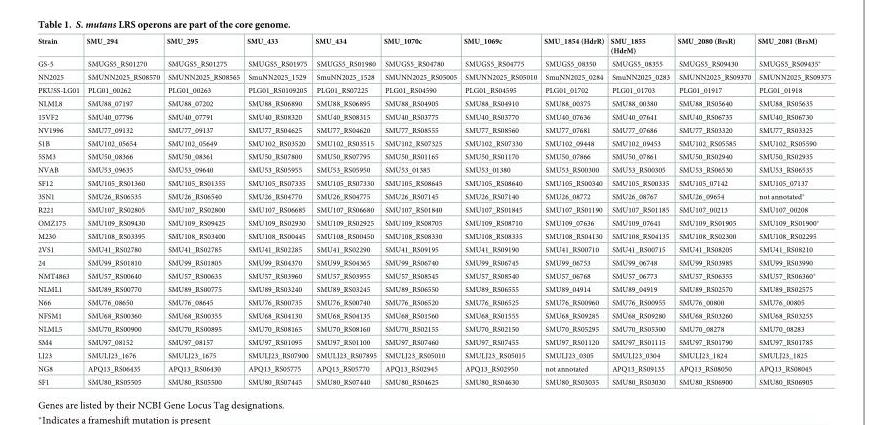table: (38, 37, 831, 385)
table column: (673, 37, 754, 385), (83, 37, 163, 385), (163, 37, 243, 385), (380, 37, 460, 385), (460, 37, 540, 385), (754, 37, 831, 385), (243, 37, 312, 385), (312, 37, 380, 385), (540, 37, 607, 385), (607, 37, 673, 385), (38, 37, 83, 385)
table column header: (38, 37, 831, 56)
table row: (38, 37, 831, 56), (38, 56, 831, 70), (38, 96, 831, 110), (38, 149, 831, 163), (38, 189, 831, 203), (38, 215, 831, 229), (38, 268, 831, 282), (38, 308, 831, 322), (38, 361, 831, 375), (38, 70, 831, 83), (38, 83, 831, 96), (38, 110, 831, 123), (38, 123, 831, 136), (38, 136, 831, 149), (38, 163, 831, 176), (38, 176, 831, 189), (38, 229, 831, 242), (38, 242, 831, 255), (38, 255, 831, 268), (38, 282, 831, 295), (38, 295, 831, 308), (38, 322, 831, 335), (38, 335, 831, 348), (38, 348, 831, 361), (38, 203, 831, 215), (38, 375, 831, 385)
